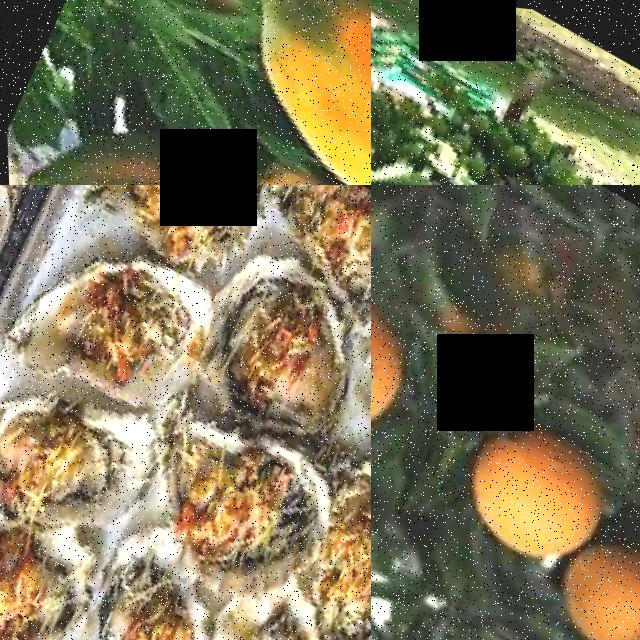orange: (442, 396, 611, 573), (536, 505, 640, 640), (371, 261, 423, 440)
oysters: (0, 202, 220, 434), (122, 390, 342, 614), (0, 344, 168, 565), (187, 252, 371, 445), (45, 515, 251, 640), (65, 185, 284, 287), (239, 185, 371, 332), (0, 471, 109, 640), (0, 185, 59, 479), (313, 330, 371, 528)
pawpaw: (196, 0, 371, 185), (3, 81, 259, 185)
